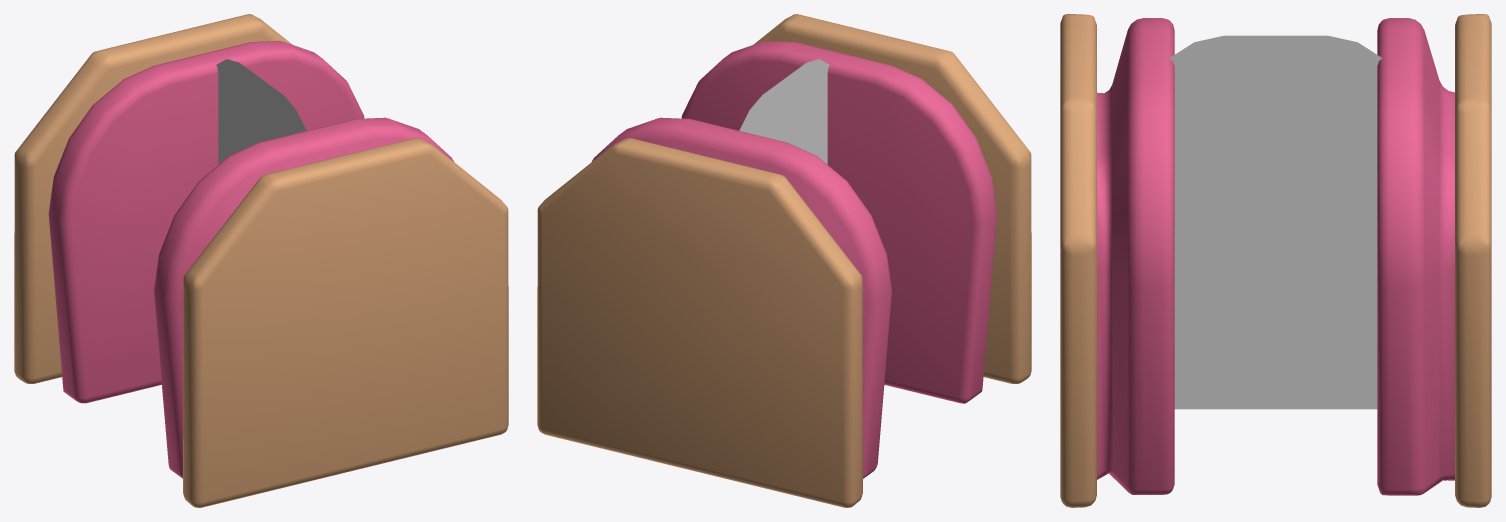
Rendered from colorDoor.fbx.
3 renders of one model, left to right at view 1: azimuth 30°, elevation 25°; view 2: azimuth 150°, elevation 25°; view 3: azimuth 270°, elevation 25°, orthographic. The views are drawn at different scales.
Parts seen in each view (by area): view 1: platform_v1.429; view 2: platform_v1.429; view 3: platform_v1.429.
Boxes of the visible parts, box(x1,y1,x2,y2) form: platform_v1.429: box(14, 14, 508, 507); platform_v1.429: box(537, 14, 1031, 507); platform_v1.429: box(1060, 14, 1491, 507).
Size of the model in its own units: 1.5 by 1.48 by 1.5.
